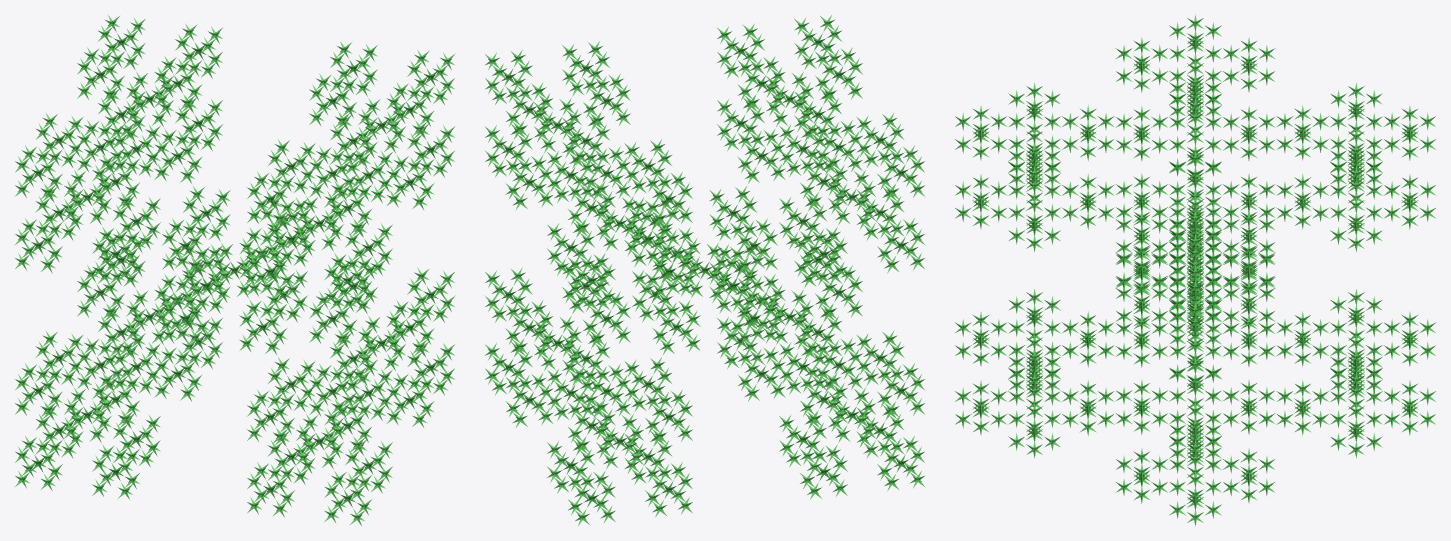
File: fractalgreattriakisoctahedron3.glb
3 renders of one model, left to right at view 1: azimuth 30°, elevation 25°; view 2: azimuth 150°, elevation 25°; view 3: azimuth 270°, elevation 25°, orthographic. The views are drawn at different scales.
Size of the model in its own units: 10.16 by 7.18 by 10.16.
